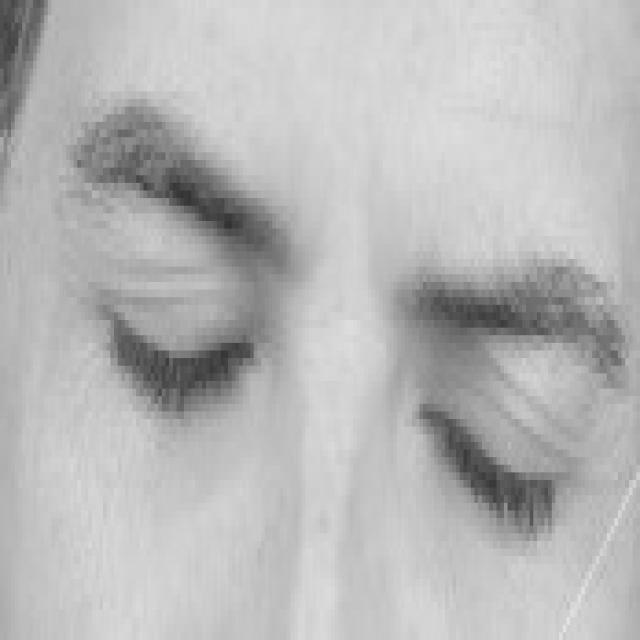real: (80, 164, 594, 568)
